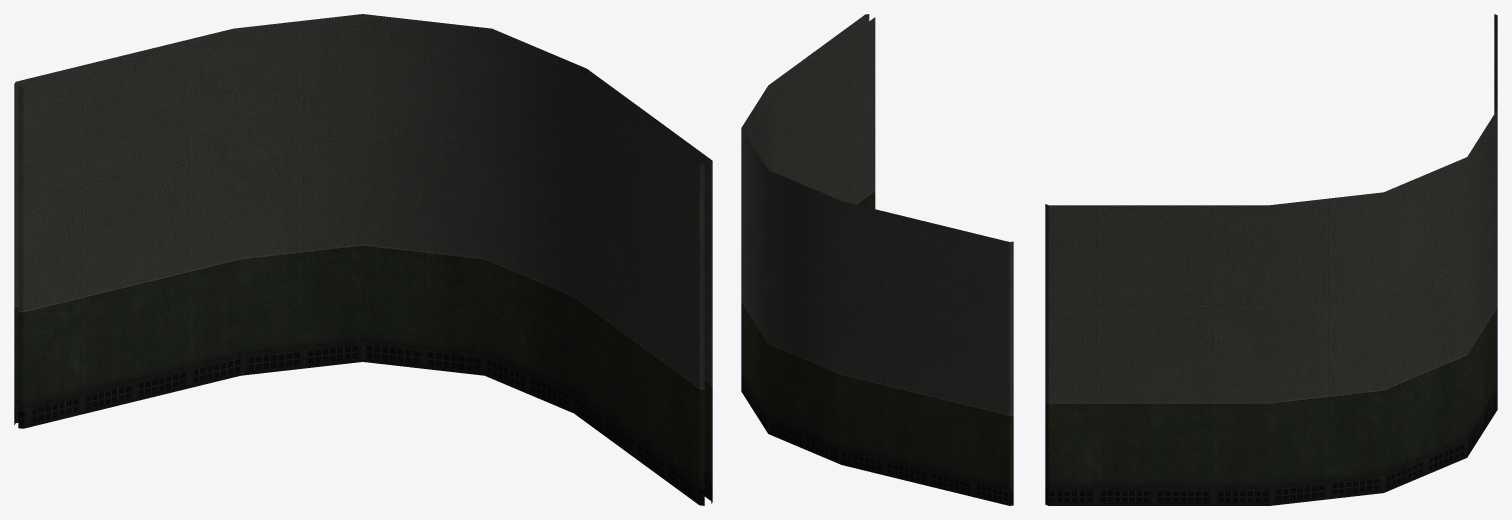
Rendered from wall_1_round.obj.
The picture shows the model from 3 angles, left to right: view 1: azimuth 30°, elevation 25°; view 2: azimuth 150°, elevation 25°; view 3: azimuth 270°, elevation 25°; orthographic projection. The views are drawn at different scales.
Parts seen in each view (by area): view 1: wall_1_round; view 2: wall_1_round; view 3: wall_1_round.
Part boxes in pixels (left/top/right/bottom): wall_1_round: left=14, top=14, right=712, bottom=505; wall_1_round: left=741, top=14, right=1013, bottom=505; wall_1_round: left=1045, top=14, right=1497, bottom=505.
Size of the model in its own units: 4.09 by 3 by 4.09.
